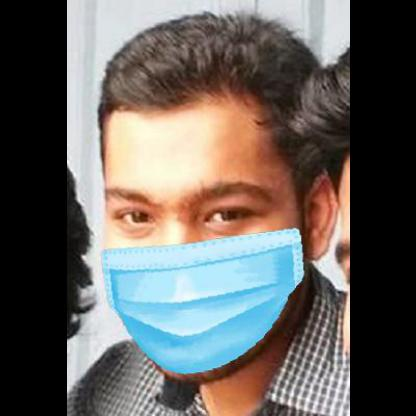Surgical Mask: (103, 125, 295, 361)
